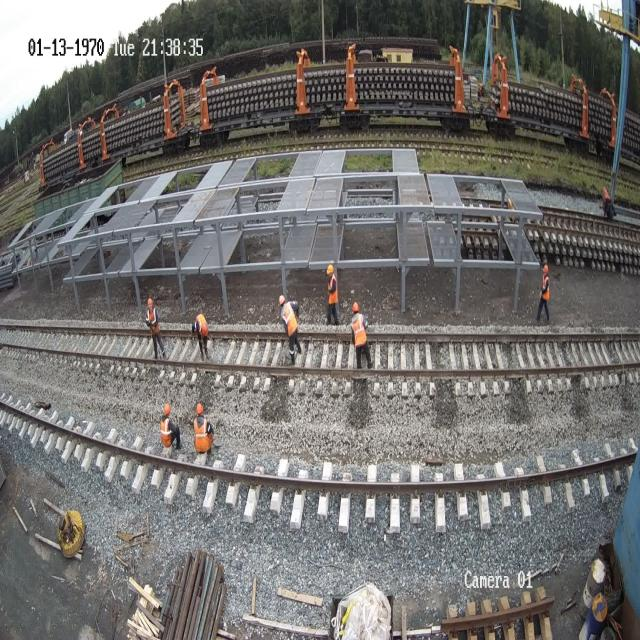Helmet: (196, 402, 203, 414), (163, 403, 170, 415), (278, 294, 285, 306), (352, 302, 359, 312), (327, 264, 333, 274), (543, 264, 548, 273), (148, 297, 152, 307)
Person: (278, 294, 302, 364), (350, 302, 373, 368), (145, 297, 167, 359), (193, 402, 214, 453), (160, 403, 181, 452), (192, 313, 211, 360), (326, 264, 340, 326), (536, 264, 550, 321)
